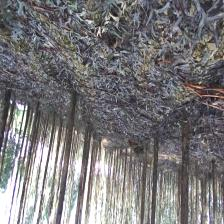trunk: (58, 90, 77, 205), (22, 105, 39, 189), (77, 123, 90, 204), (42, 114, 56, 187), (180, 126, 189, 222), (151, 140, 158, 224), (140, 156, 146, 224), (212, 168, 218, 224), (195, 166, 199, 222)
